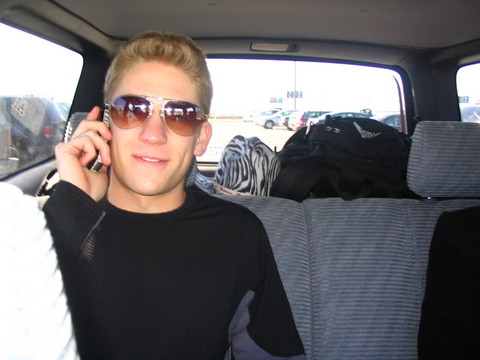person: (40, 31, 308, 360)
